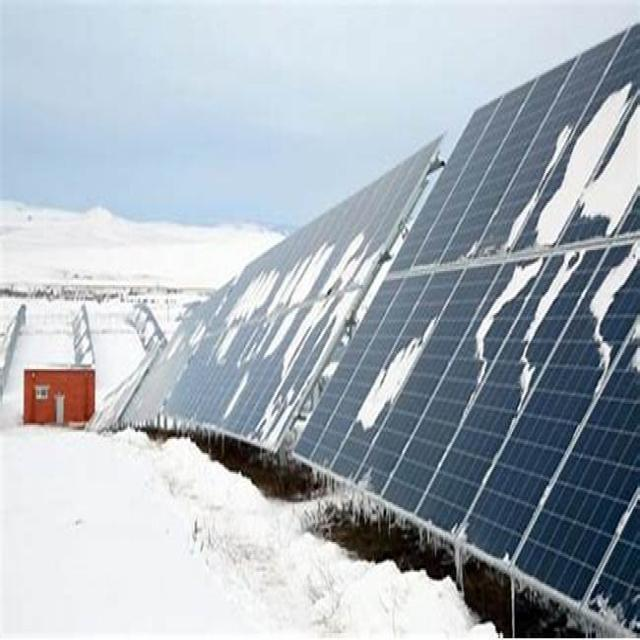snow covered: (328, 75, 635, 576)
